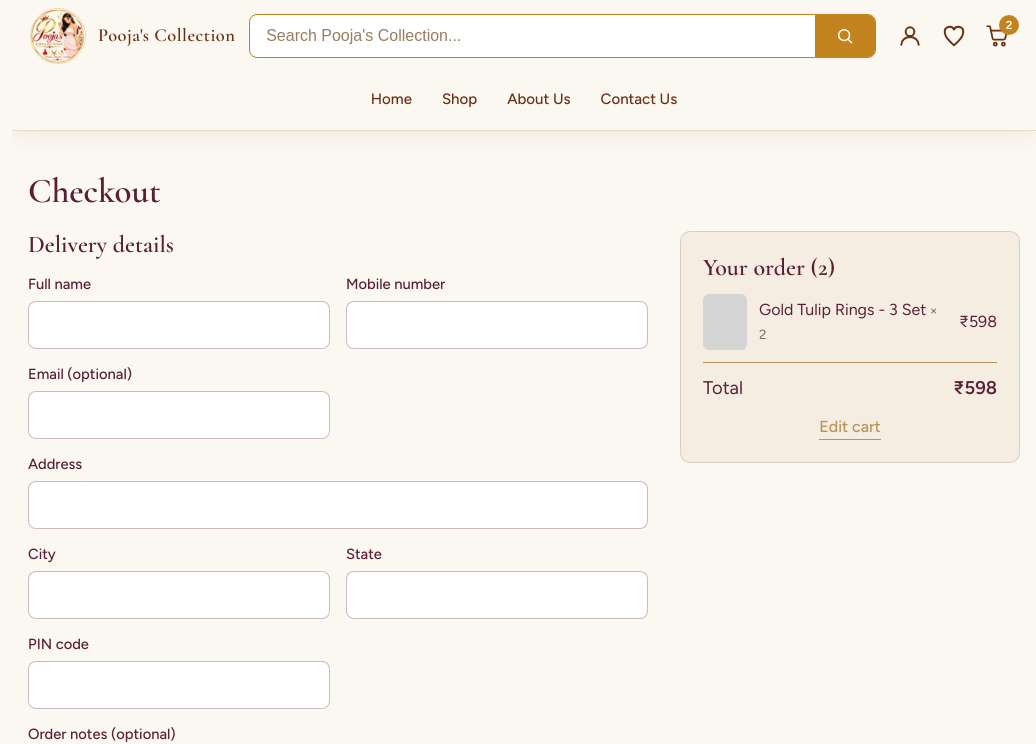
Test case: checkout with a backend › posts the order, clears the cart and shows the confirmation from the server order
The image size is (1036, 744).
Type "Asha Raman" into the field labelled "Full name" at x=179, y=325, box [28,301,330,349]
Type "98765 43210" into the field labelled "Mobile number" at x=497, y=325, box [346,301,648,349]
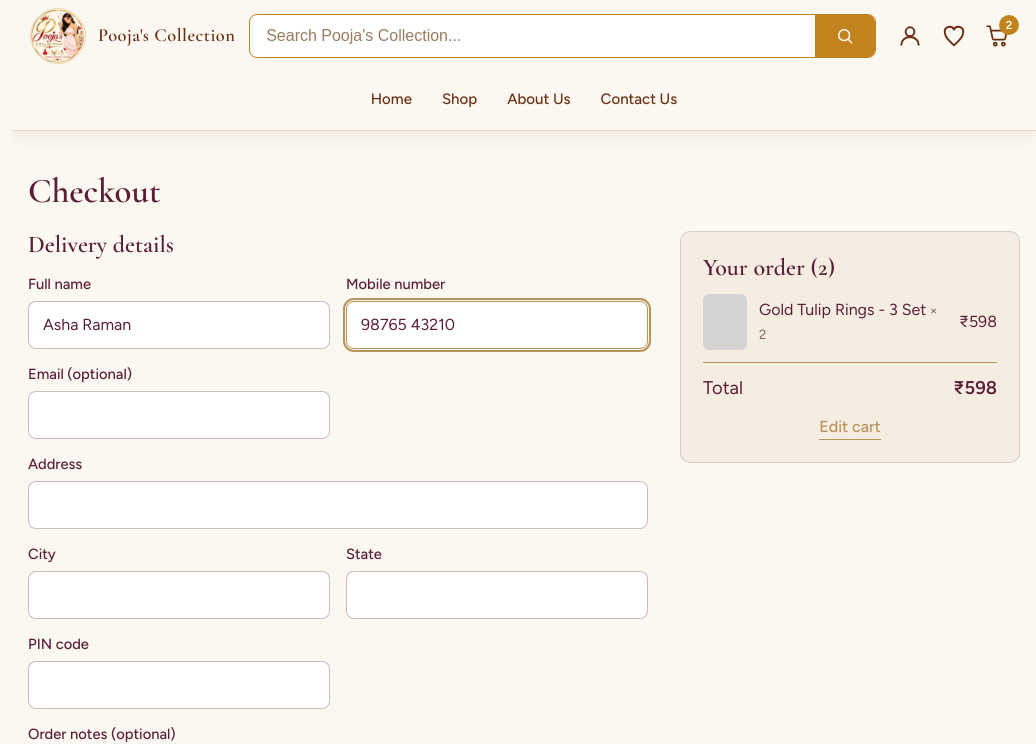
Type "12 Temple Road" into the field labelled "Address" at x=338, y=505, box [28,481,648,529]
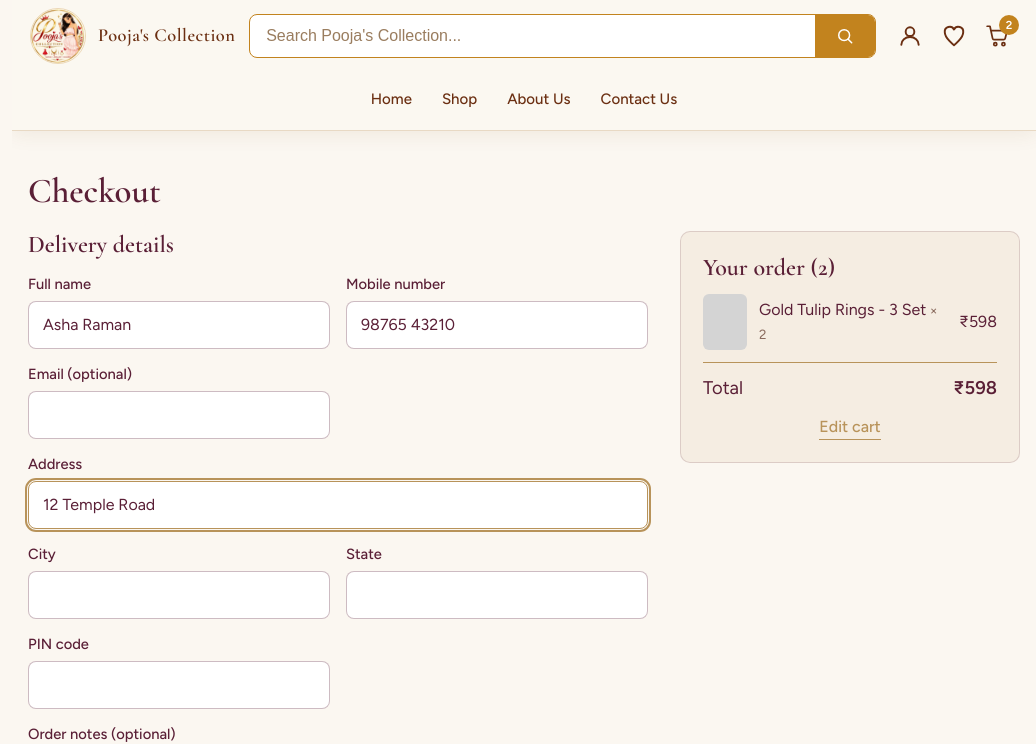
Type "Chennai" into the field labelled "City" at x=179, y=595, box [28,571,330,619]
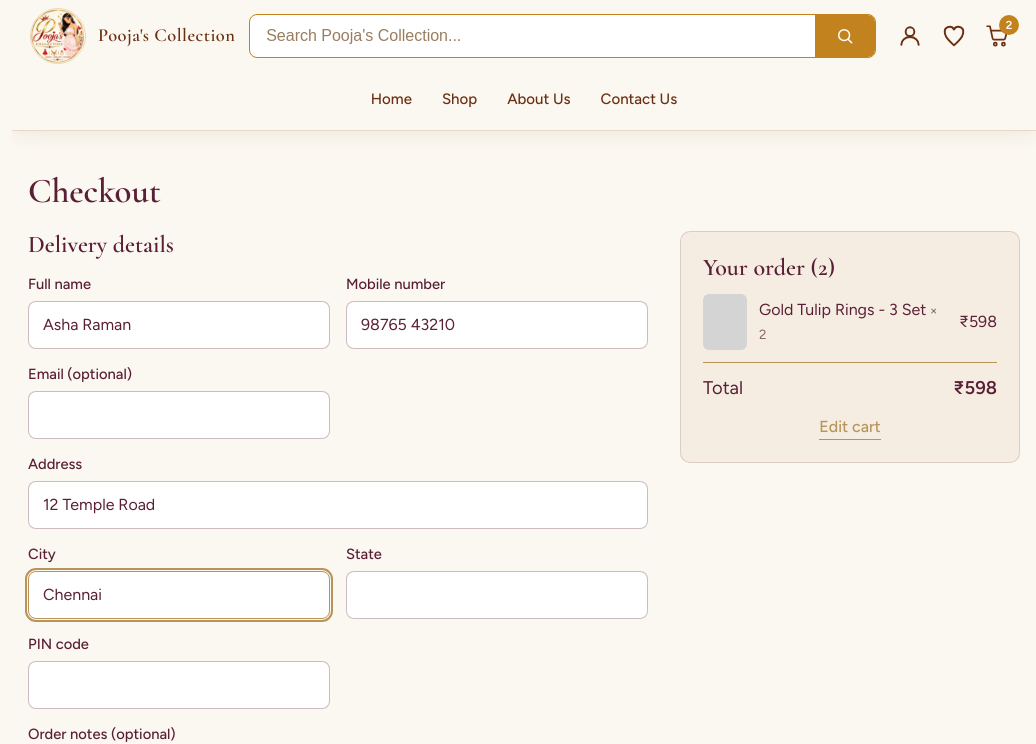
Type "Tamil Nadu" into the field labelled "State" at x=497, y=595, box [346,571,648,619]
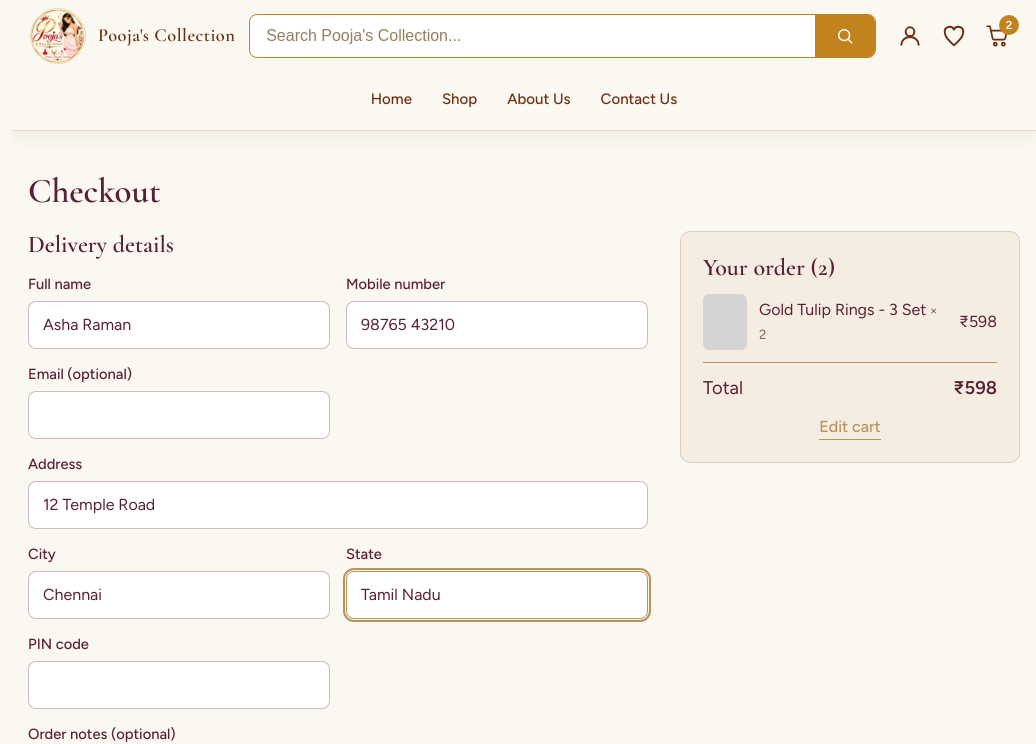
Type "600004" into the field labelled "PIN code" at x=179, y=685, box [28,661,330,709]
(page scrolled)
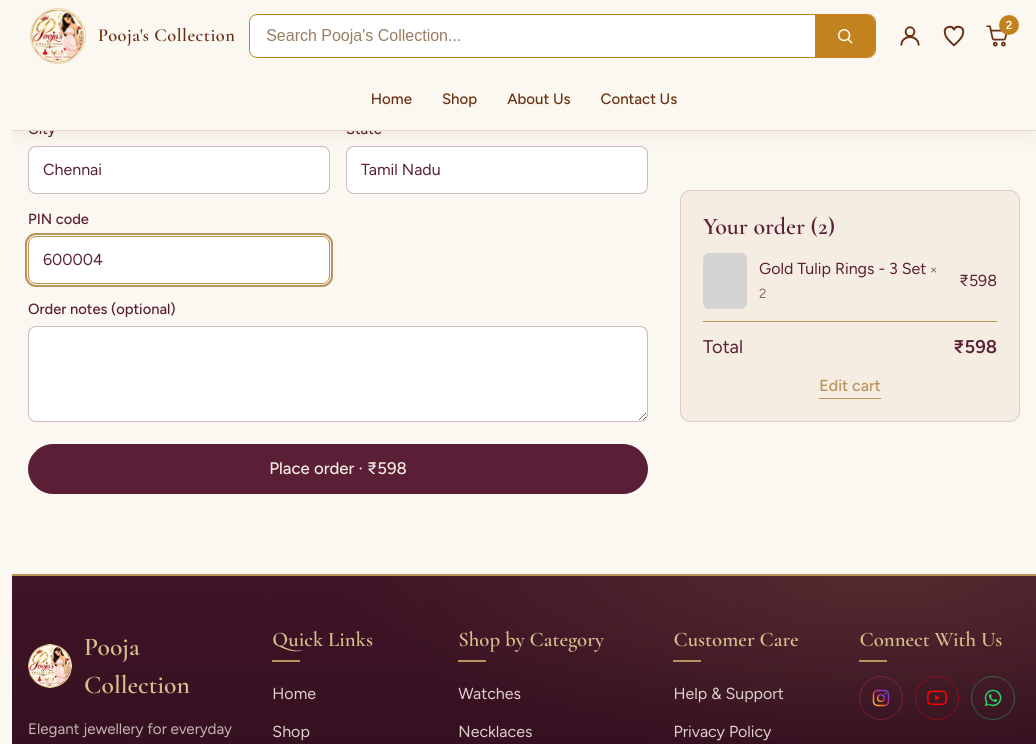
Click the button "Place order · ₹598" at x=338, y=469, box [28,444,648,494]
(page scrolled)
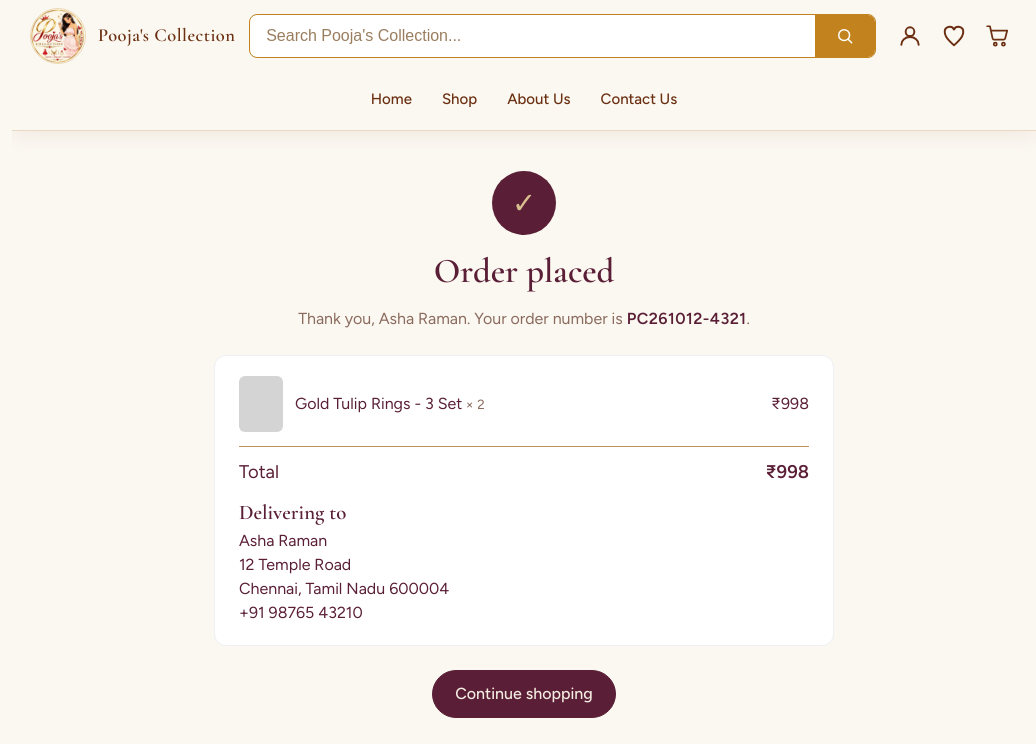
Expected: the heading "Order placed" is shown, [434,250,614,292]
Expected: the text "PC261012-4321" is shown, [627,309,746,328]
